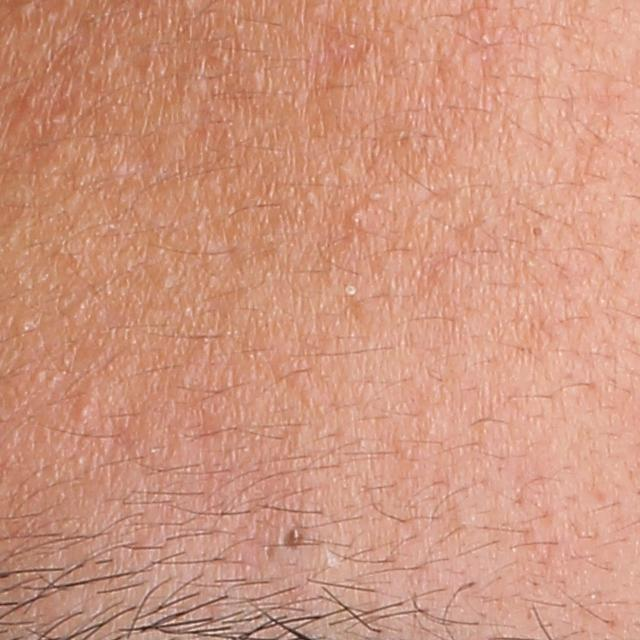comedo: (72, 402, 95, 421), (346, 211, 365, 230), (529, 220, 547, 240)
